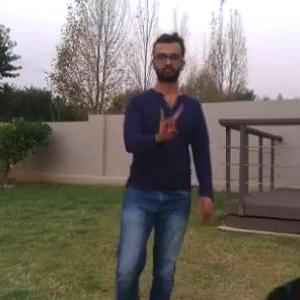takeoff-hand: (155, 98, 186, 141)
